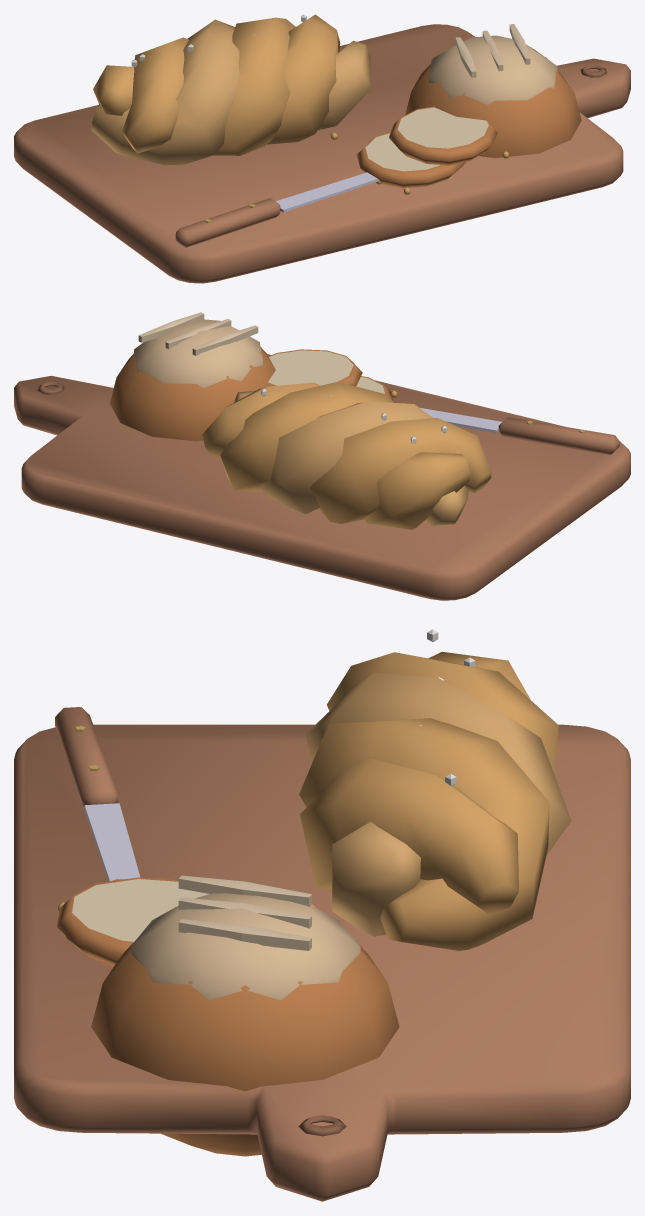
File: bread_board.glb
3 views of the same model, one above another, from view 1: azimuth 30°, elevation 25°; view 2: azimuth 150°, elevation 25°; view 3: azimuth 270°, elevation 25° (orthographic). The views are drawn at different scales.
Visible parts, largest first — view 1: bread_board; view 2: bread_board; view 3: bread_board.
Part boxes in pixels (box(x1,y1,x2,y2)): bread_board: box(14, 14, 630, 283); bread_board: box(14, 312, 630, 600); bread_board: box(14, 629, 630, 1201).
Size of what is drawn, in the model's own units: 0.5 by 0.15 by 0.3.
